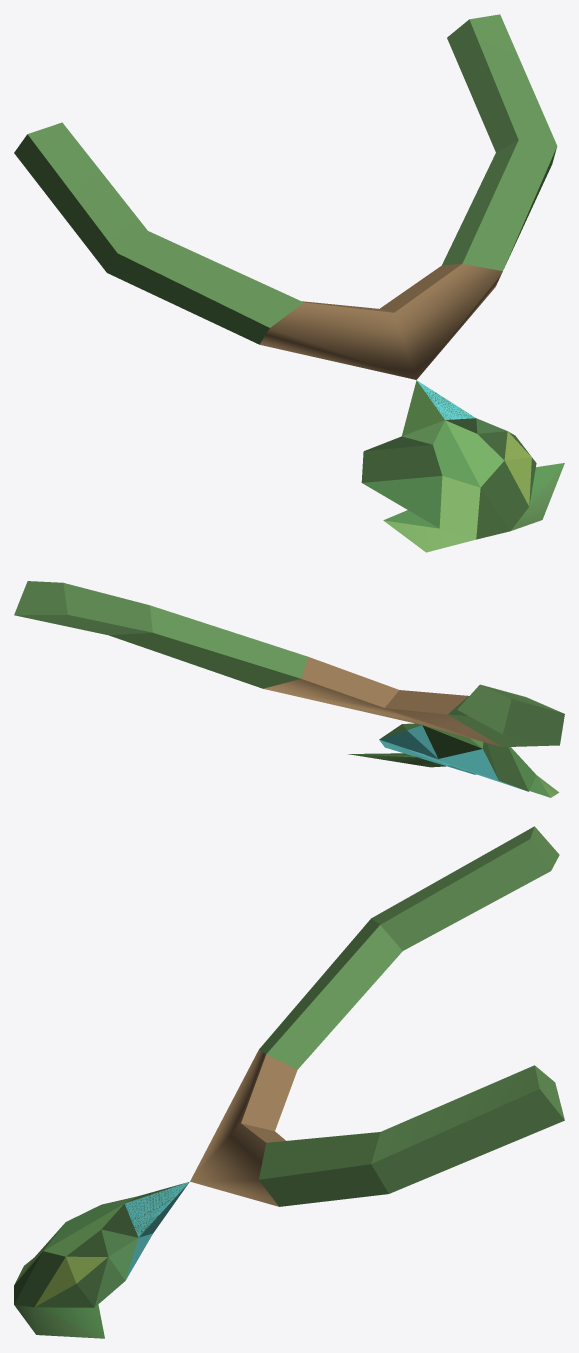
File: Prop.Necklace_10.fbx
3 renders of one model, top to bottom at view 1: azimuth 30°, elevation 25°; view 2: azimuth 150°, elevation 25°; view 3: azimuth 270°, elevation 25°, orthographic. The views are drawn at different scales.
Parts seen in each view (by area): view 1: Prop_Necklace_10; view 2: Prop_Necklace_10; view 3: Prop_Necklace_10.
Boxes of the visible parts, x1,y1,x2,y2 form: Prop_Necklace_10: (14, 14, 564, 552); Prop_Necklace_10: (14, 581, 564, 797); Prop_Necklace_10: (14, 826, 564, 1338).
Bounding box in the file's own units: 17.17 × 10.46 × 14.91.
